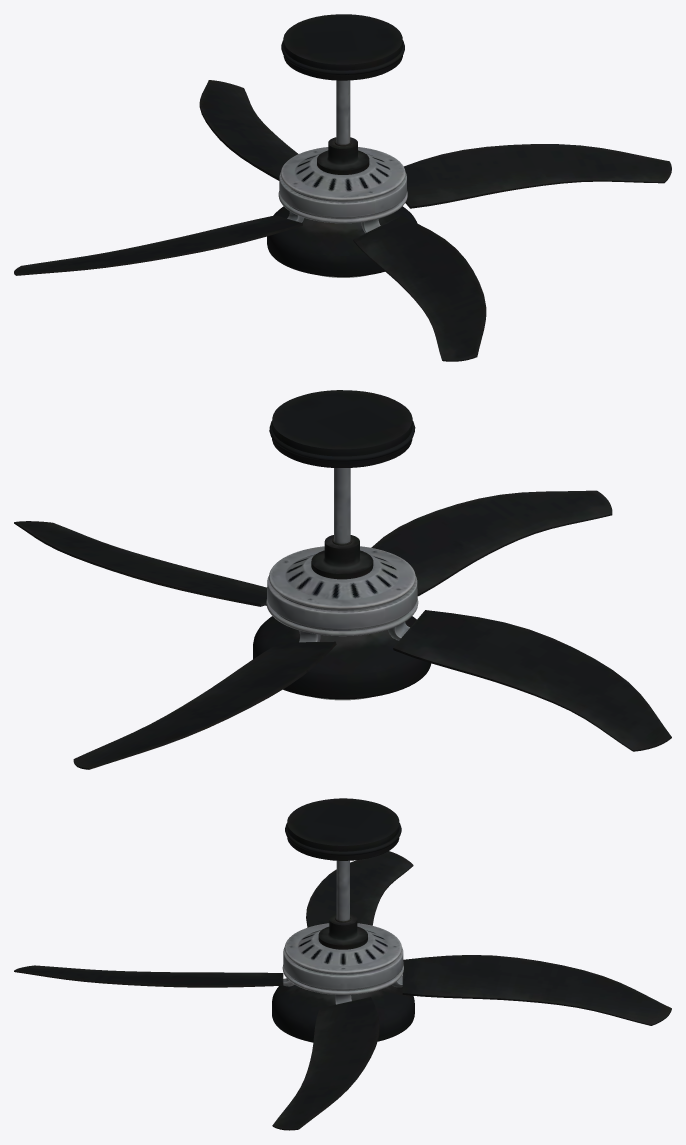
Rendered from ceiling_fan.gltf.
3 renders of one model, top to bottom at view 1: azimuth 30°, elevation 25°; view 2: azimuth 150°, elevation 25°; view 3: azimuth 270°, elevation 25°, orthographic. The views are drawn at different scales.
Parts seen in each view (by area): view 1: ceiling_fan_blades, ceiling_fan; view 2: ceiling_fan_blades, ceiling_fan; view 3: ceiling_fan_blades, ceiling_fan.
Part boxes in pixels (<box>): ceiling_fan_blades: <box>14,80,671,361</box>; ceiling_fan: <box>267,14,417,277</box>; ceiling_fan_blades: <box>14,490,671,769</box>; ceiling_fan: <box>253,390,431,700</box>; ceiling_fan_blades: <box>14,851,671,1130</box>; ceiling_fan: <box>272,798,414,1042</box>.
Size of the model in its own units: 1.46 by 0.5163 by 1.46.
Materials: 1 (1 with a texture image).
